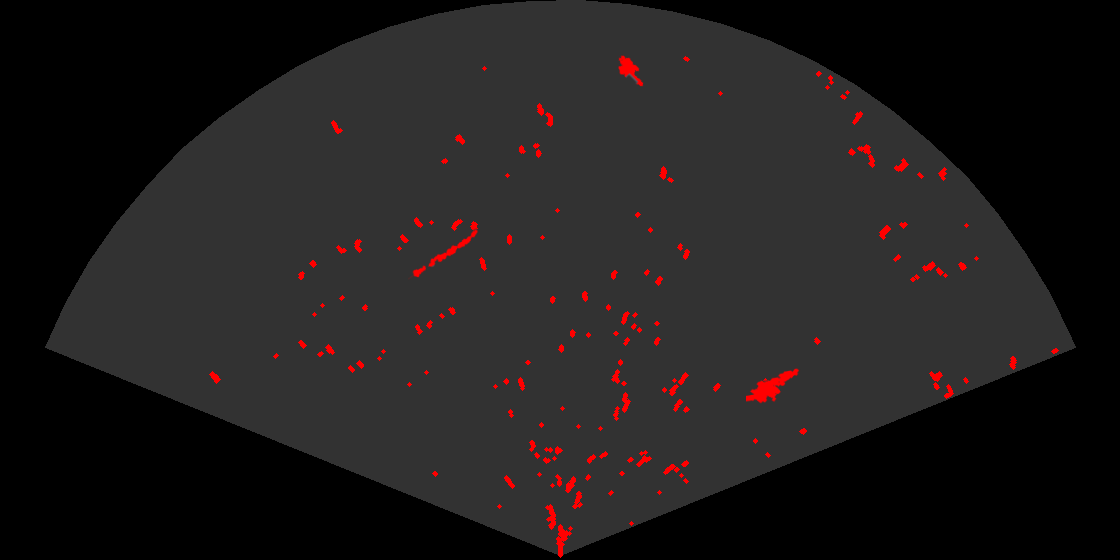AUV: (617, 54, 645, 88)
chain: (408, 228, 480, 281)
frogman: (746, 367, 801, 405)
